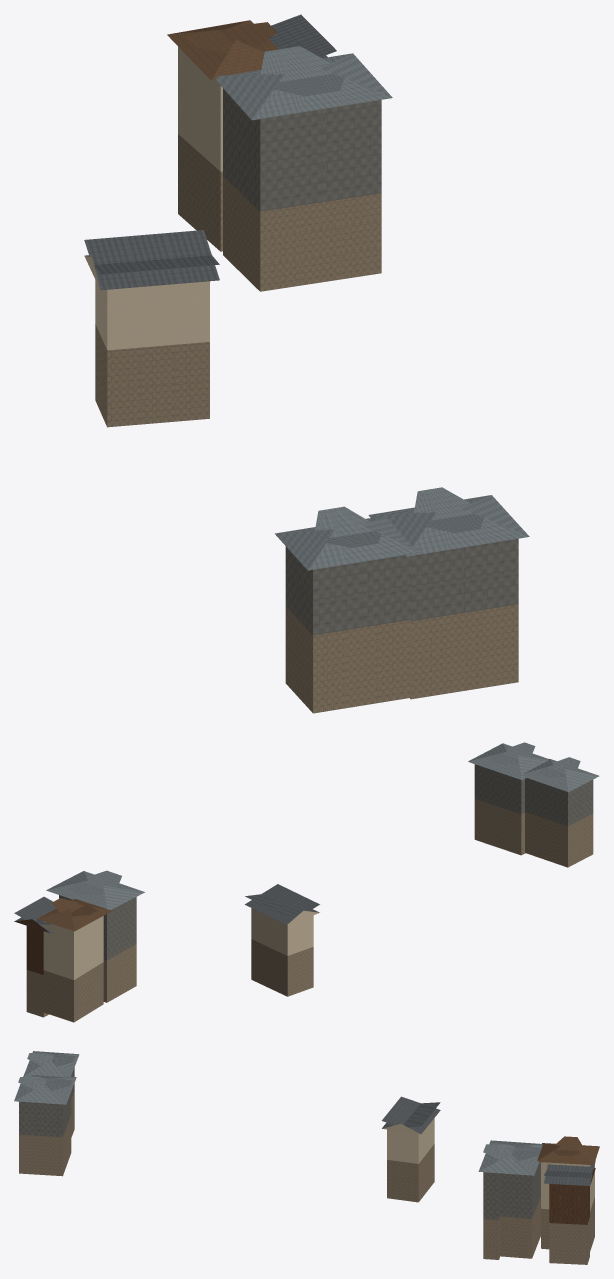
The model's file is bld_c3_18_459.gltf.
3 renders of one model, top to bottom at view 1: azimuth 30°, elevation 25°; view 2: azimuth 150°, elevation 25°; view 3: azimuth 270°, elevation 25°, orthographic. The views are drawn at different scales.
Parts seen in each view (by area): view 1: bld_c3_18_459; view 2: bld_c3_18_459; view 3: bld_c3_18_459.
Boxes of the visible parts, x1=… form: bld_c3_18_459: x1=84, y1=14, x2=529, y2=713; bld_c3_18_459: x1=14, y1=742, x2=599, y2=1022; bld_c3_18_459: x1=14, y1=1051, x2=599, y2=1264.
Size of the model in its own units: 36.69 by 12.9 by 67.66.
9 materials, 9 textured.
